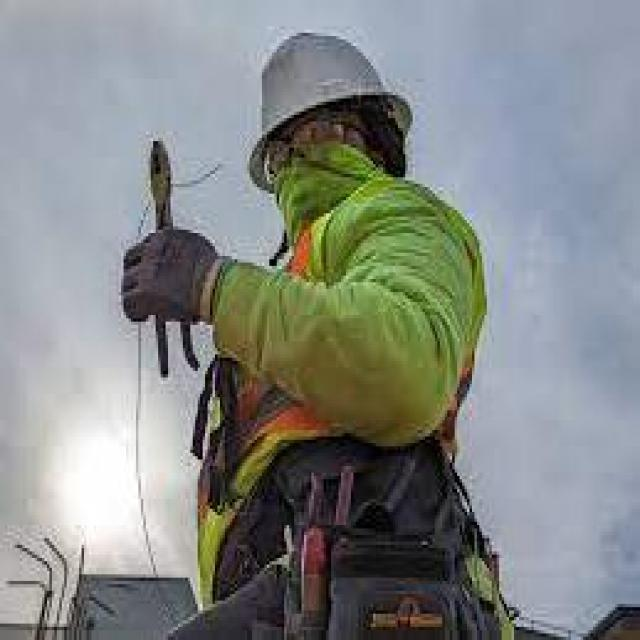Reflective-Jacket: (173, 158, 514, 496)
Safety-Helmet: (232, 20, 428, 170)
